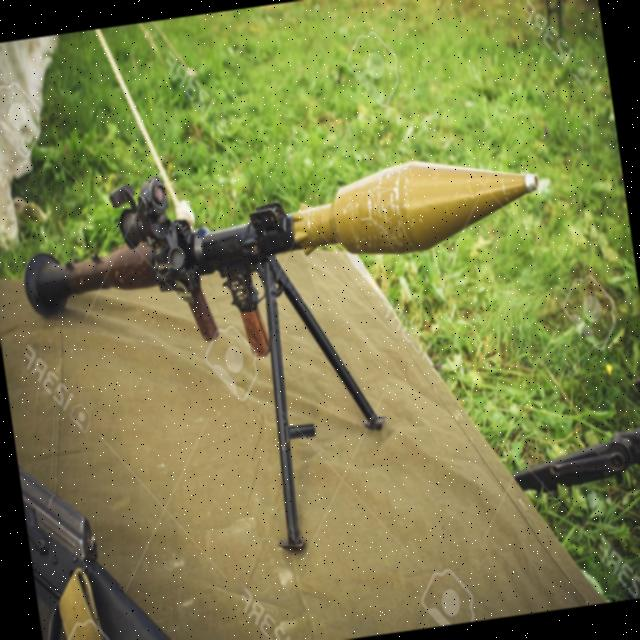Bazooka: (9, 116, 555, 380)
